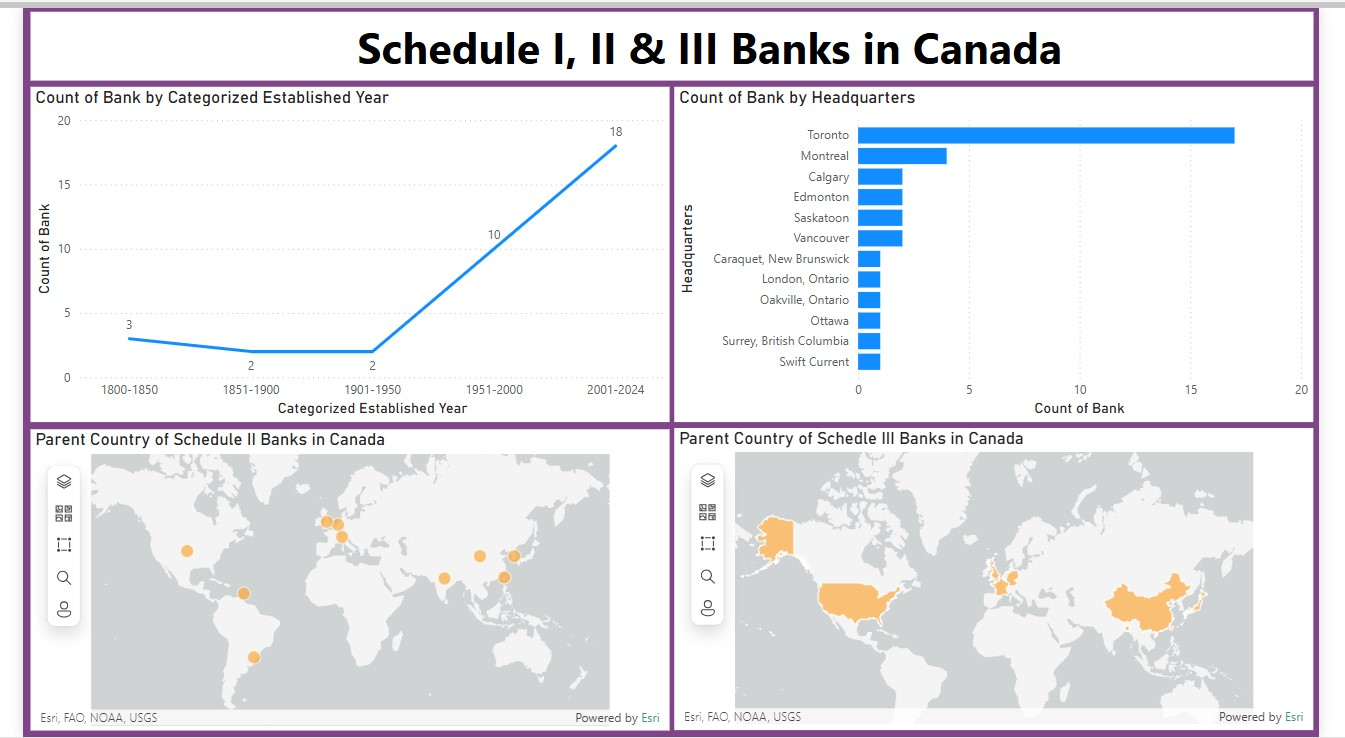

The dashboard page shown, as its layout file describes it:
{"tool":"powerbi","page":{"name":"Schedule 1, 2 & 3 Banks ","canvas":[1280,720],"ordinal":3},"visuals":[{"type":"textbox","box":[6.9,4.1,1267,68],"z":0},{"type":"lineChart","fields":{"Category":["Sch_I_Bank.Categorized Established Year"],"Y":["CountNonNull(Sch_I_Bank.Bank)"]},"box":[6.9,78.2,631.2,331],"z":1000},{"type":"barChart","fields":{"Y":["CountNonNull(Sch_I_Bank.Bank)"],"Category":["Sch_I_Bank.Headquarters"]},"box":[643.6,78.2,631.2,331],"z":2000},{"type":"esriVisual","fields":{"Location":["Sch_II_Bank.Parent Company"]},"box":[6.9,415.8,631.2,297.8],"z":3000},{"type":"esriVisual","fields":{"Location":["Sch_III_Bank.Parent Country of Schedle III Banks in Canada"]},"box":[643.6,414.4,631.2,298],"z":4000}]}

Visuals, with their boxes in screenshot pixels (x1, y1, x2, y2), scaled from the page's 1280x720 canvas onto the 1345x738 screenshot:
textbox: bbox(7, 4, 1339, 74)
lineChart - Sch_I_Bank.Categorized Established Year x CountNonNull(Sch_I_Bank.Bank): bbox(7, 80, 671, 419)
barChart - CountNonNull(Sch_I_Bank.Bank) x Sch_I_Bank.Headquarters: bbox(676, 80, 1340, 419)
esriVisual - Sch_II_Bank.Parent Company: bbox(7, 426, 671, 731)
esriVisual - Sch_III_Bank.Parent Country of Schedle III Banks in Canada: bbox(676, 425, 1340, 730)
